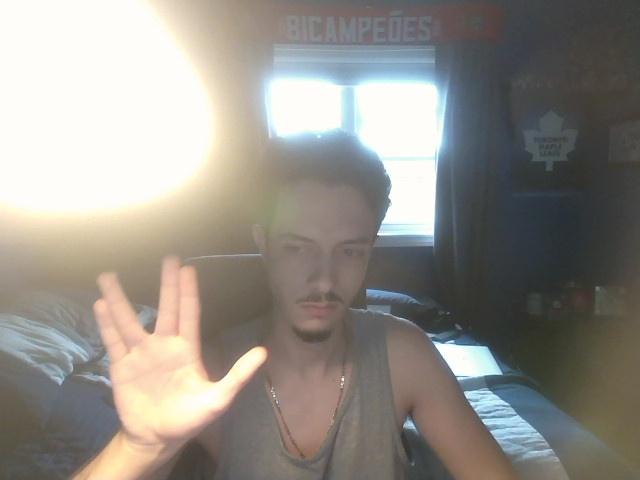LiveLong: (92, 256, 269, 440)
